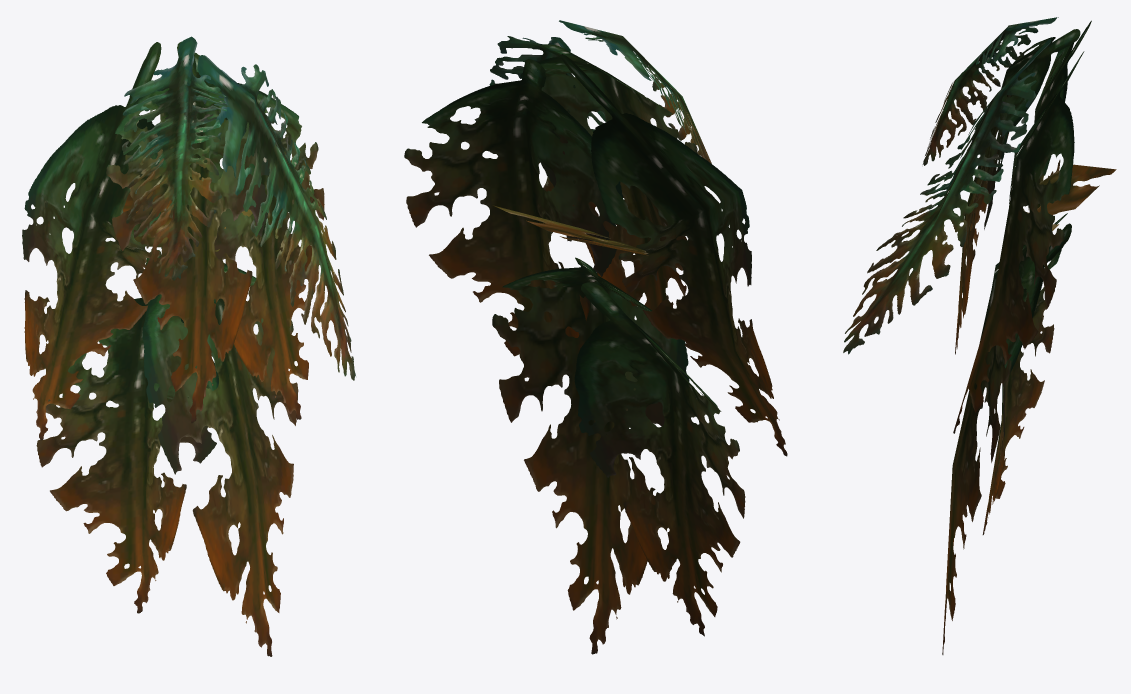
The model's file is stemple_broadleaf_straight_04.fbx.
3 renders of one model, left to right at view 1: azimuth 30°, elevation 25°; view 2: azimuth 150°, elevation 25°; view 3: azimuth 270°, elevation 25°, orthographic. The views are drawn at different scales.
Parts seen in each view (by area): view 1: sunken_tileset/sunken_plants01_mat; view 2: sunken_tileset/sunken_plants01_mat; view 3: sunken_tileset/sunken_plants01_mat.
Boxes of the visible parts, <box> form: sunken_tileset/sunken_plants01_mat: <box>22,36,355,656</box>; sunken_tileset/sunken_plants01_mat: <box>404,20,787,654</box>; sunken_tileset/sunken_plants01_mat: <box>843,17,1116,654</box>.
Bounding box in the file's own units: 2.31 × 4.35 × 1.76.
